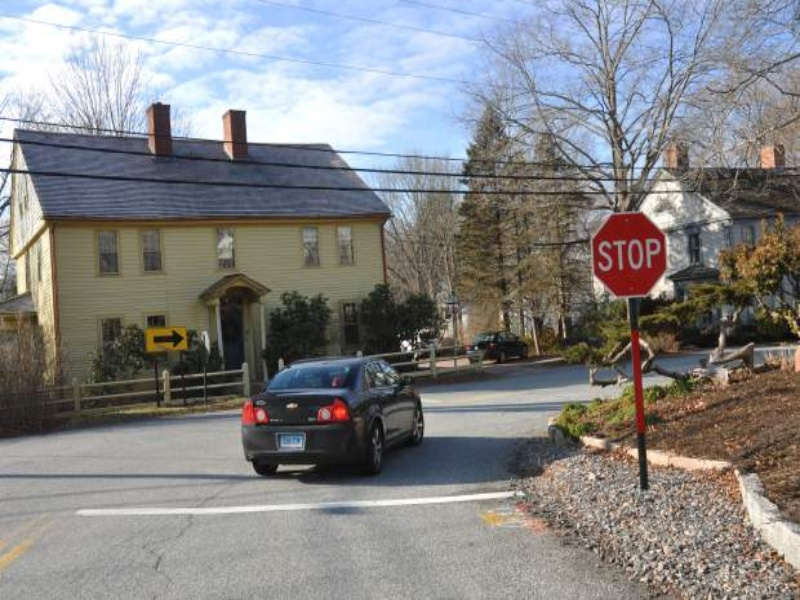stop sign: (587, 210, 673, 301)
